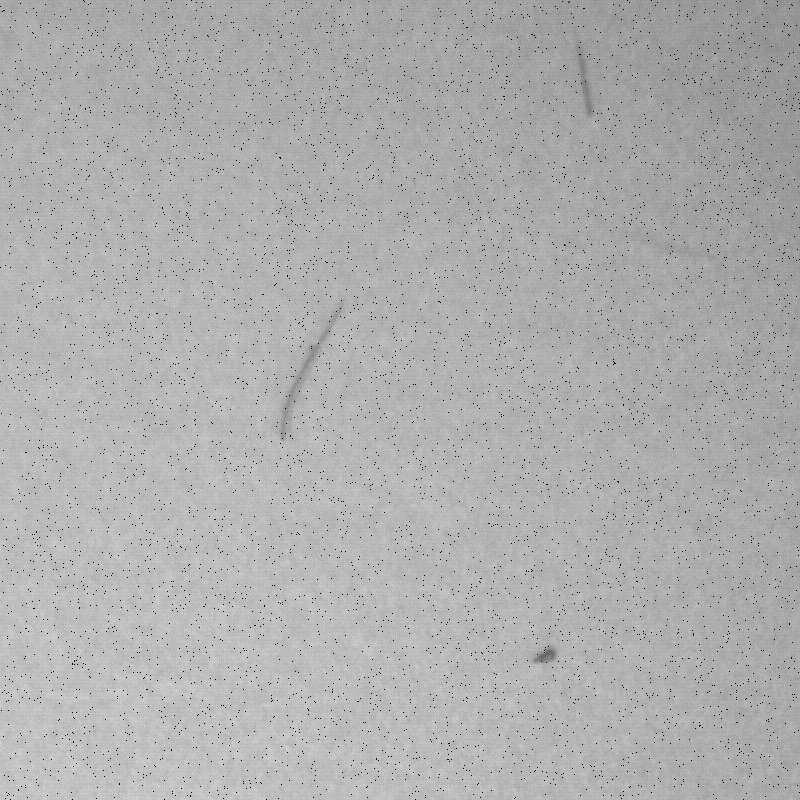defect: (275, 295, 346, 441), (562, 21, 599, 119), (529, 645, 562, 668)
